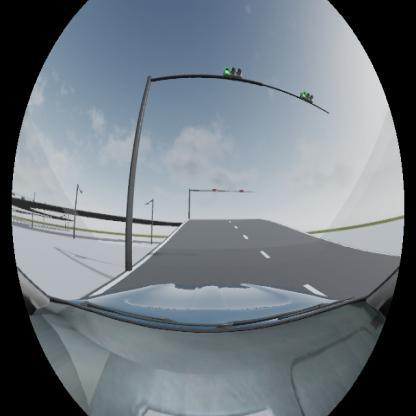Green Light: (224, 66, 242, 80), (300, 89, 314, 102)
